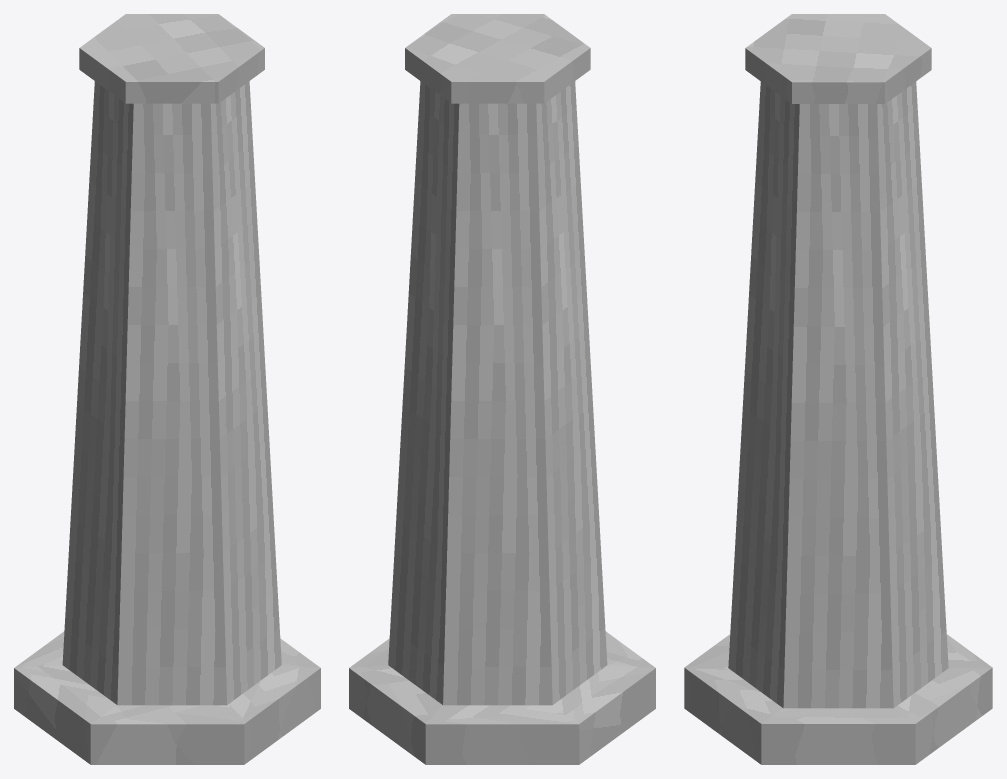
File: column-1.glb
The picture shows the model from 3 angles, left to right: view 1: azimuth 30°, elevation 25°; view 2: azimuth 150°, elevation 25°; view 3: azimuth 270°, elevation 25°; orthographic projection.
Parts seen in each view (by area): view 1: Cylinder; view 2: Cylinder; view 3: Cylinder.
Boxes of the visible parts, x1=… form: Cylinder: x1=14, y1=14, x2=320, y2=764; Cylinder: x1=349, y1=14, x2=655, y2=764; Cylinder: x1=684, y1=14, x2=992, y2=764.
Size of the model in its own units: 2.42 by 6.64 by 2.8.
1 material, 1 textured.
